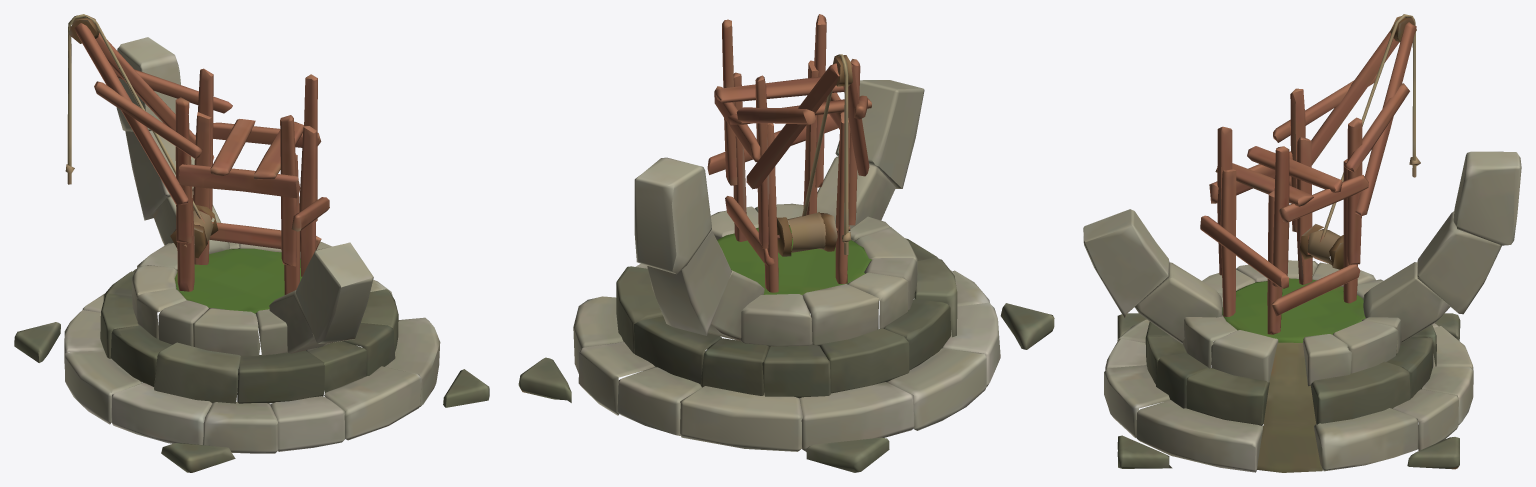
The model's file is SM_Monument_03.glb.
3 renders of one model, left to right at view 1: azimuth 30°, elevation 25°; view 2: azimuth 150°, elevation 25°; view 3: azimuth 270°, elevation 25°, orthographic. The views are drawn at different scales.
Visible parts, largest first — view 1: SM_Monument_03; view 2: SM_Monument_03; view 3: SM_Monument_03.
Boxes of the visible parts, x1,y1,x2,y2 form: SM_Monument_03: (14,14,489,472); SM_Monument_03: (518,14,1054,472); SM_Monument_03: (1083,14,1521,472).
Size of the model in its own units: 8.52 by 8.63 by 10.25.
Materials: 1 (1 with a texture image).
